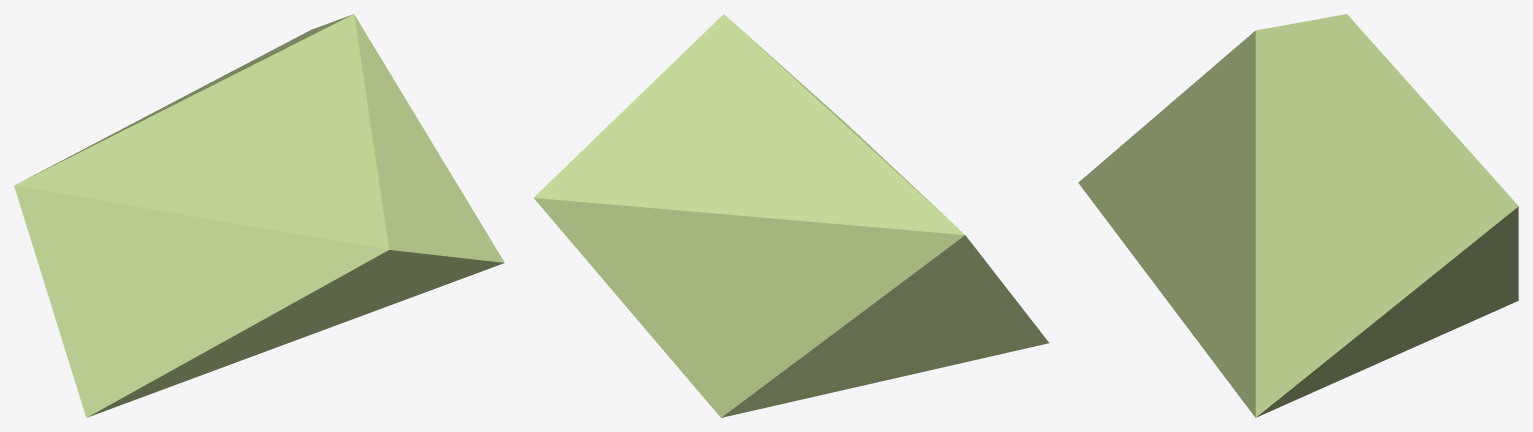
File: leaf.fbx
3 views of the same model, side by side, from view 1: azimuth 30°, elevation 25°; view 2: azimuth 150°, elevation 25°; view 3: azimuth 270°, elevation 25° (orthographic). The views are drawn at different scales.
Parts seen in each view (by area): view 1: leaf; view 2: leaf; view 3: leaf.
Part boxes in pixels (x1=…): leaf: x1=14, y1=14, x2=504, y2=417; leaf: x1=534, y1=14, x2=1049, y2=417; leaf: x1=1078, y1=14, x2=1518, y2=417.
Bounding box in the file's own units: 0.2149 × 0.1387 × 0.1664.
